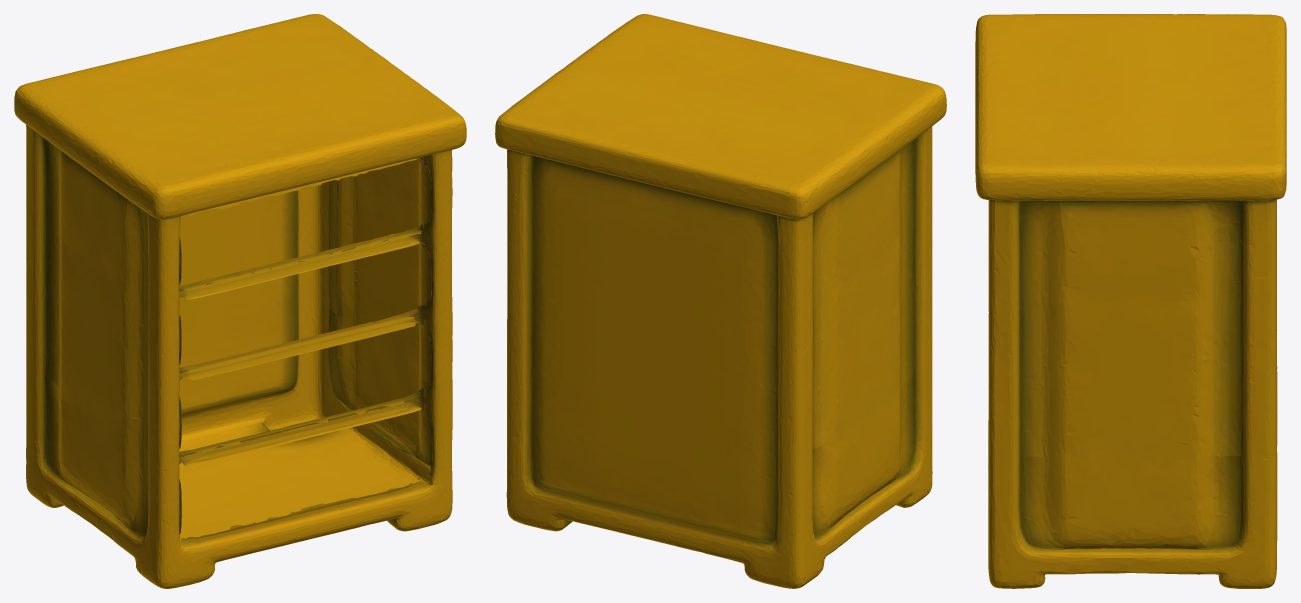
The model's file is body.glb.
3 renders of one model, left to right at view 1: azimuth 30°, elevation 25°; view 2: azimuth 150°, elevation 25°; view 3: azimuth 270°, elevation 25°, orthographic. The views are drawn at different scales.
Visible parts, largest first — view 1: source_surface_0; view 2: source_surface_0; view 3: source_surface_0.
Part boxes in pixels (<box>): source_surface_0: <box>14,14,466,588</box>; source_surface_0: <box>495,14,946,588</box>; source_surface_0: <box>975,14,1286,588</box>.
Bounding box in the file's own units: 0.3236 × 0.4 × 0.2637.
Materials: 1 (1 with a texture image).
